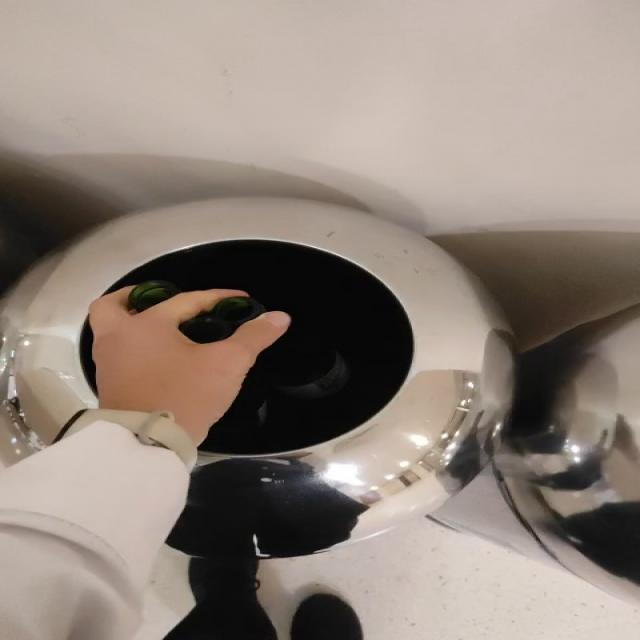bin: (3, 200, 515, 557)
glass: (215, 336, 349, 430), (180, 297, 267, 344), (128, 280, 180, 312)
